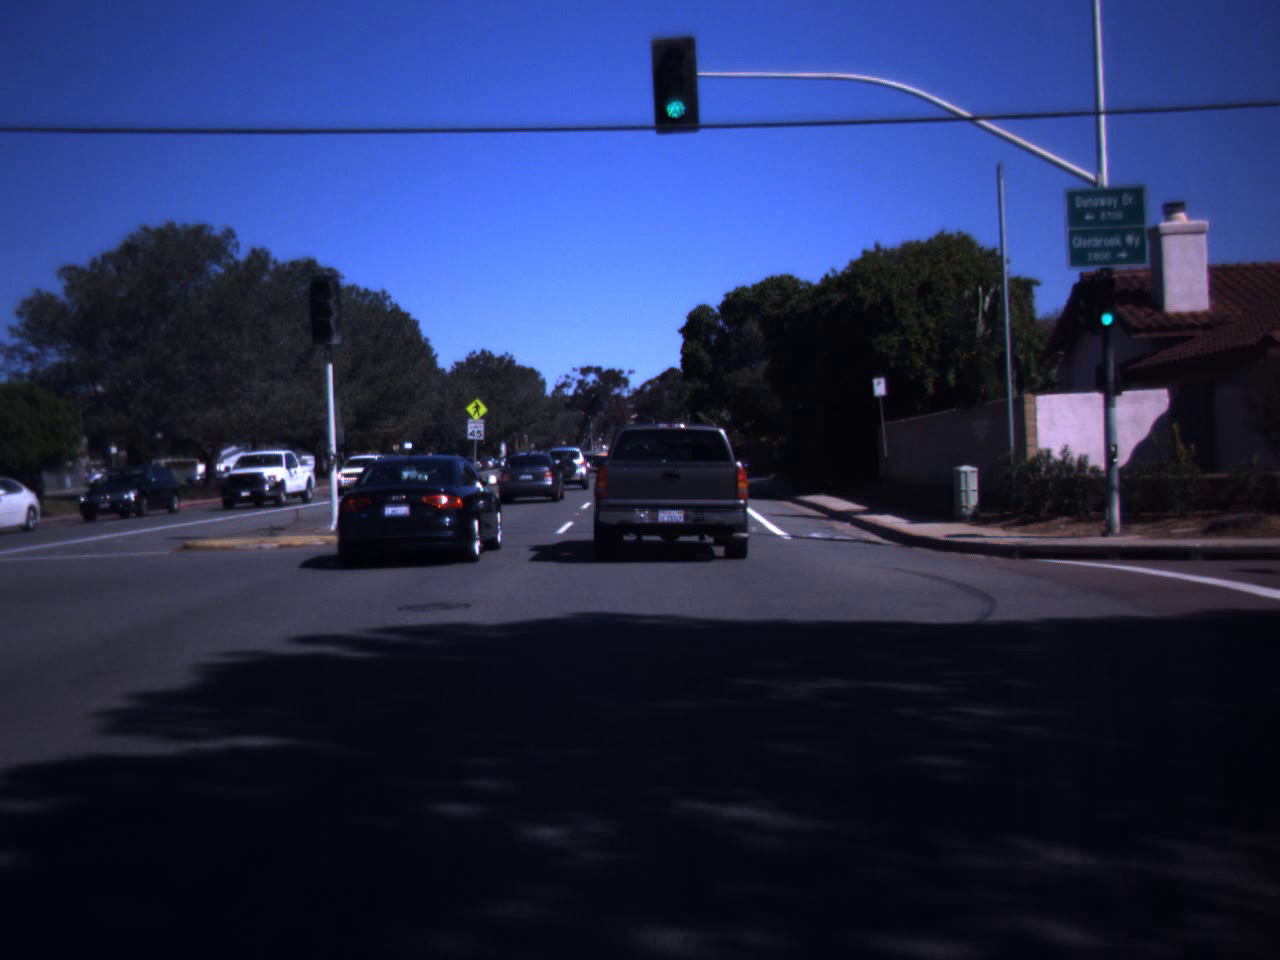go: (655, 47, 697, 112), (1121, 283, 1148, 328)
